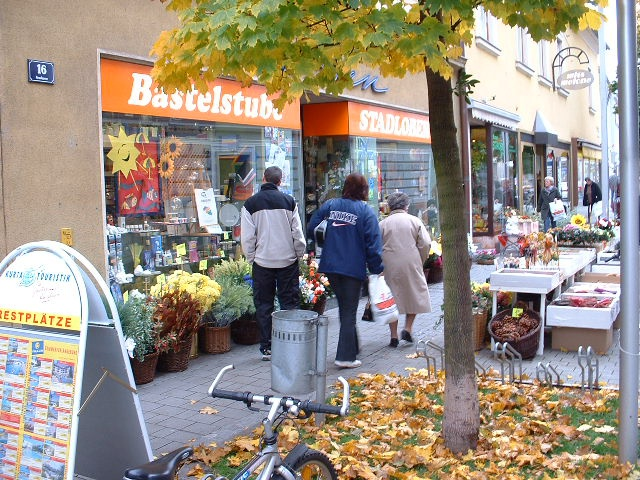person: (237, 167, 307, 362), (315, 171, 382, 367), (369, 190, 429, 345)
